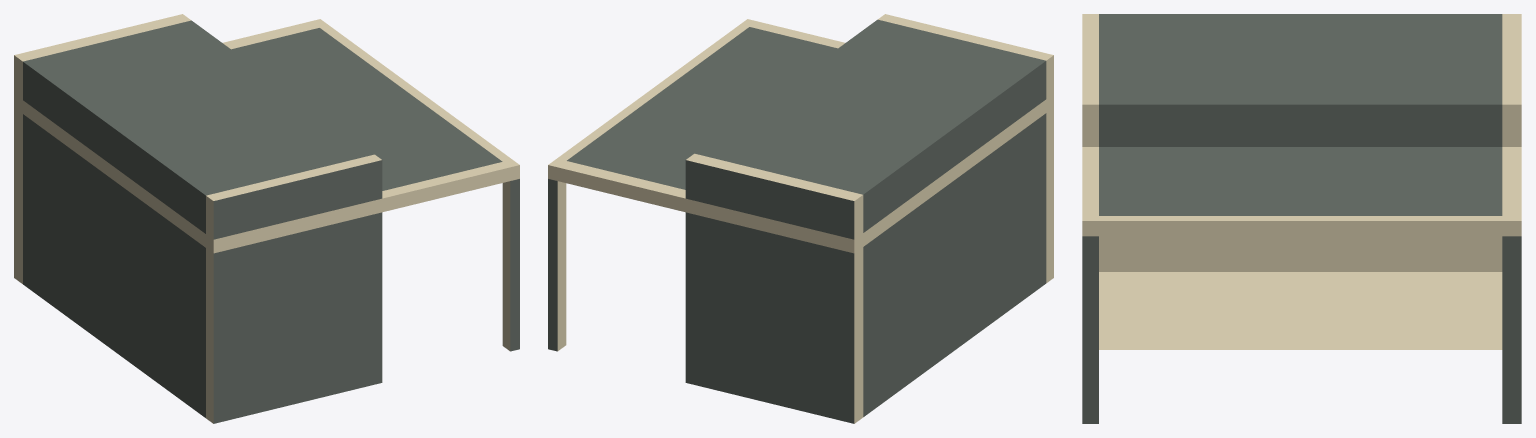
3 renders of one model, left to right at view 1: azimuth 30°, elevation 25°; view 2: azimuth 150°, elevation 25°; view 3: azimuth 270°, elevation 25°, orthographic. The views are drawn at different scales.
Visible parts, largest first — view 1: 立方体.004; view 2: 立方体.004; view 3: 立方体.004.
Part boxes in pixels (x1=…): 立方体.004: x1=14, y1=14, x2=519, y2=423; 立方体.004: x1=548, y1=14, x2=1053, y2=423; 立方体.004: x1=1082, y1=14, x2=1521, y2=423.
Bounding box in the file's own units: 1158 × 804 × 1306.
